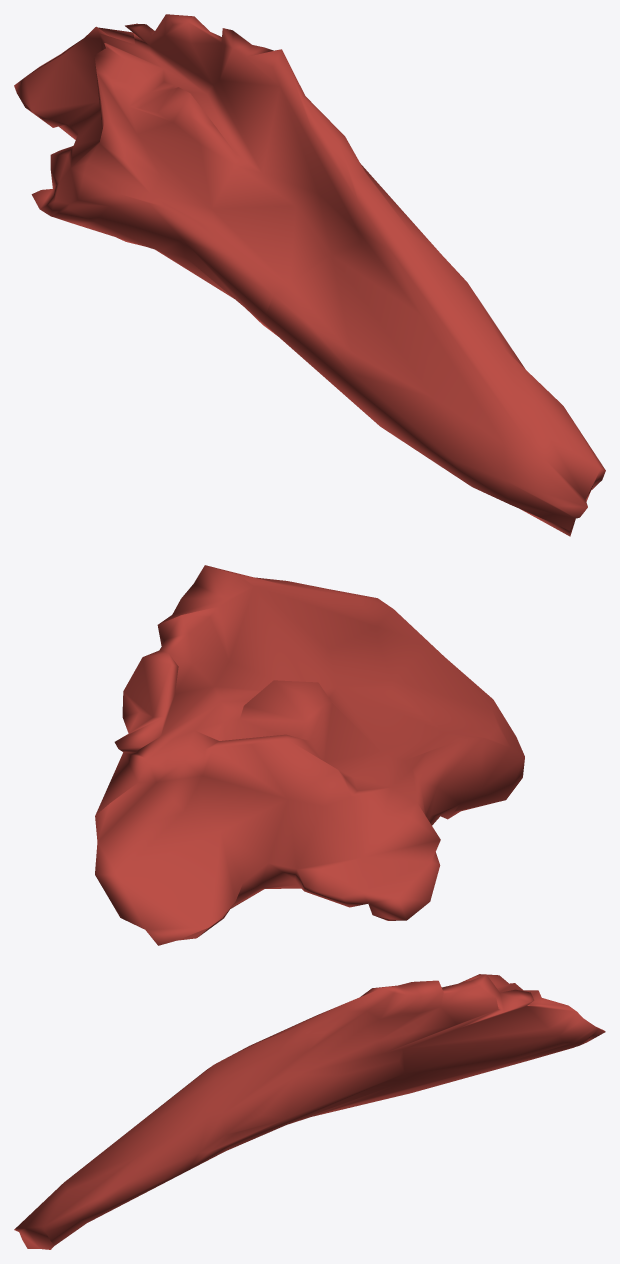
The model's file is musculos-oblique-head-of-adductor-hallucis-r.glb.
3 views of the same model, one above another, from view 1: azimuth 30°, elevation 25°; view 2: azimuth 150°, elevation 25°; view 3: azimuth 270°, elevation 25° (orthographic). The views are drawn at different scales.
Parts seen in each view (by area): view 1: Oblique head of adductor hallucis.r; view 2: Oblique head of adductor hallucis.r; view 3: Oblique head of adductor hallucis.r.
Part boxes in pixels (x1,y1,x2,y2): Oblique head of adductor hallucis.r: (14,14,605,536); Oblique head of adductor hallucis.r: (95,565,524,945); Oblique head of adductor hallucis.r: (14,974,605,1249).
Size of the model in its own units: 0.028 by 0.0301 by 0.0665.
